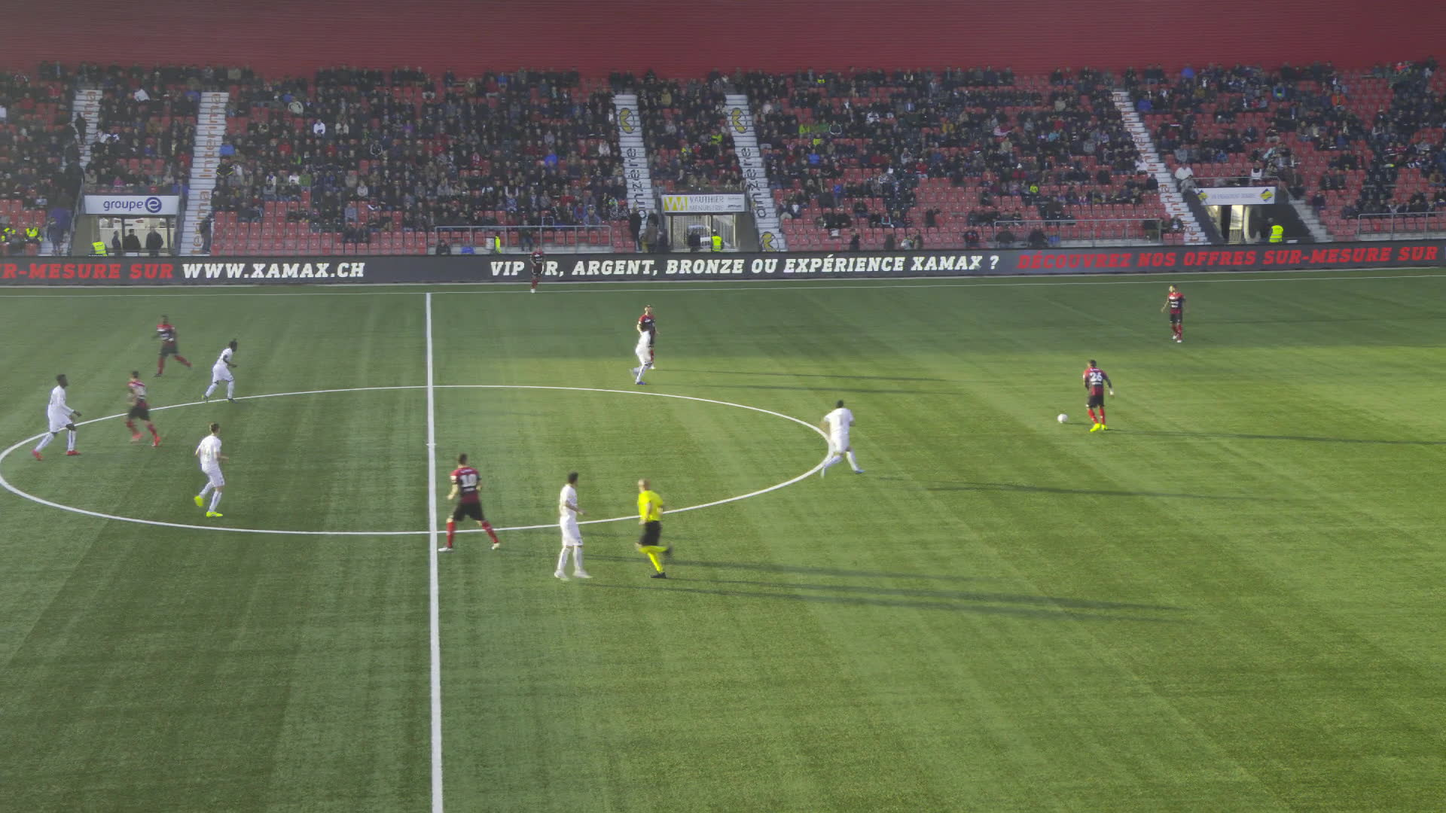ball: (1057, 413, 1068, 423)
player: (437, 451, 502, 553), (31, 371, 82, 461), (553, 470, 592, 581), (819, 397, 864, 479), (193, 422, 230, 518), (121, 369, 163, 448), (150, 313, 192, 378), (200, 336, 238, 405), (1081, 357, 1115, 432), (629, 324, 657, 385), (1160, 282, 1188, 342), (636, 303, 661, 370), (529, 243, 546, 294)
referee: (634, 476, 673, 580)
